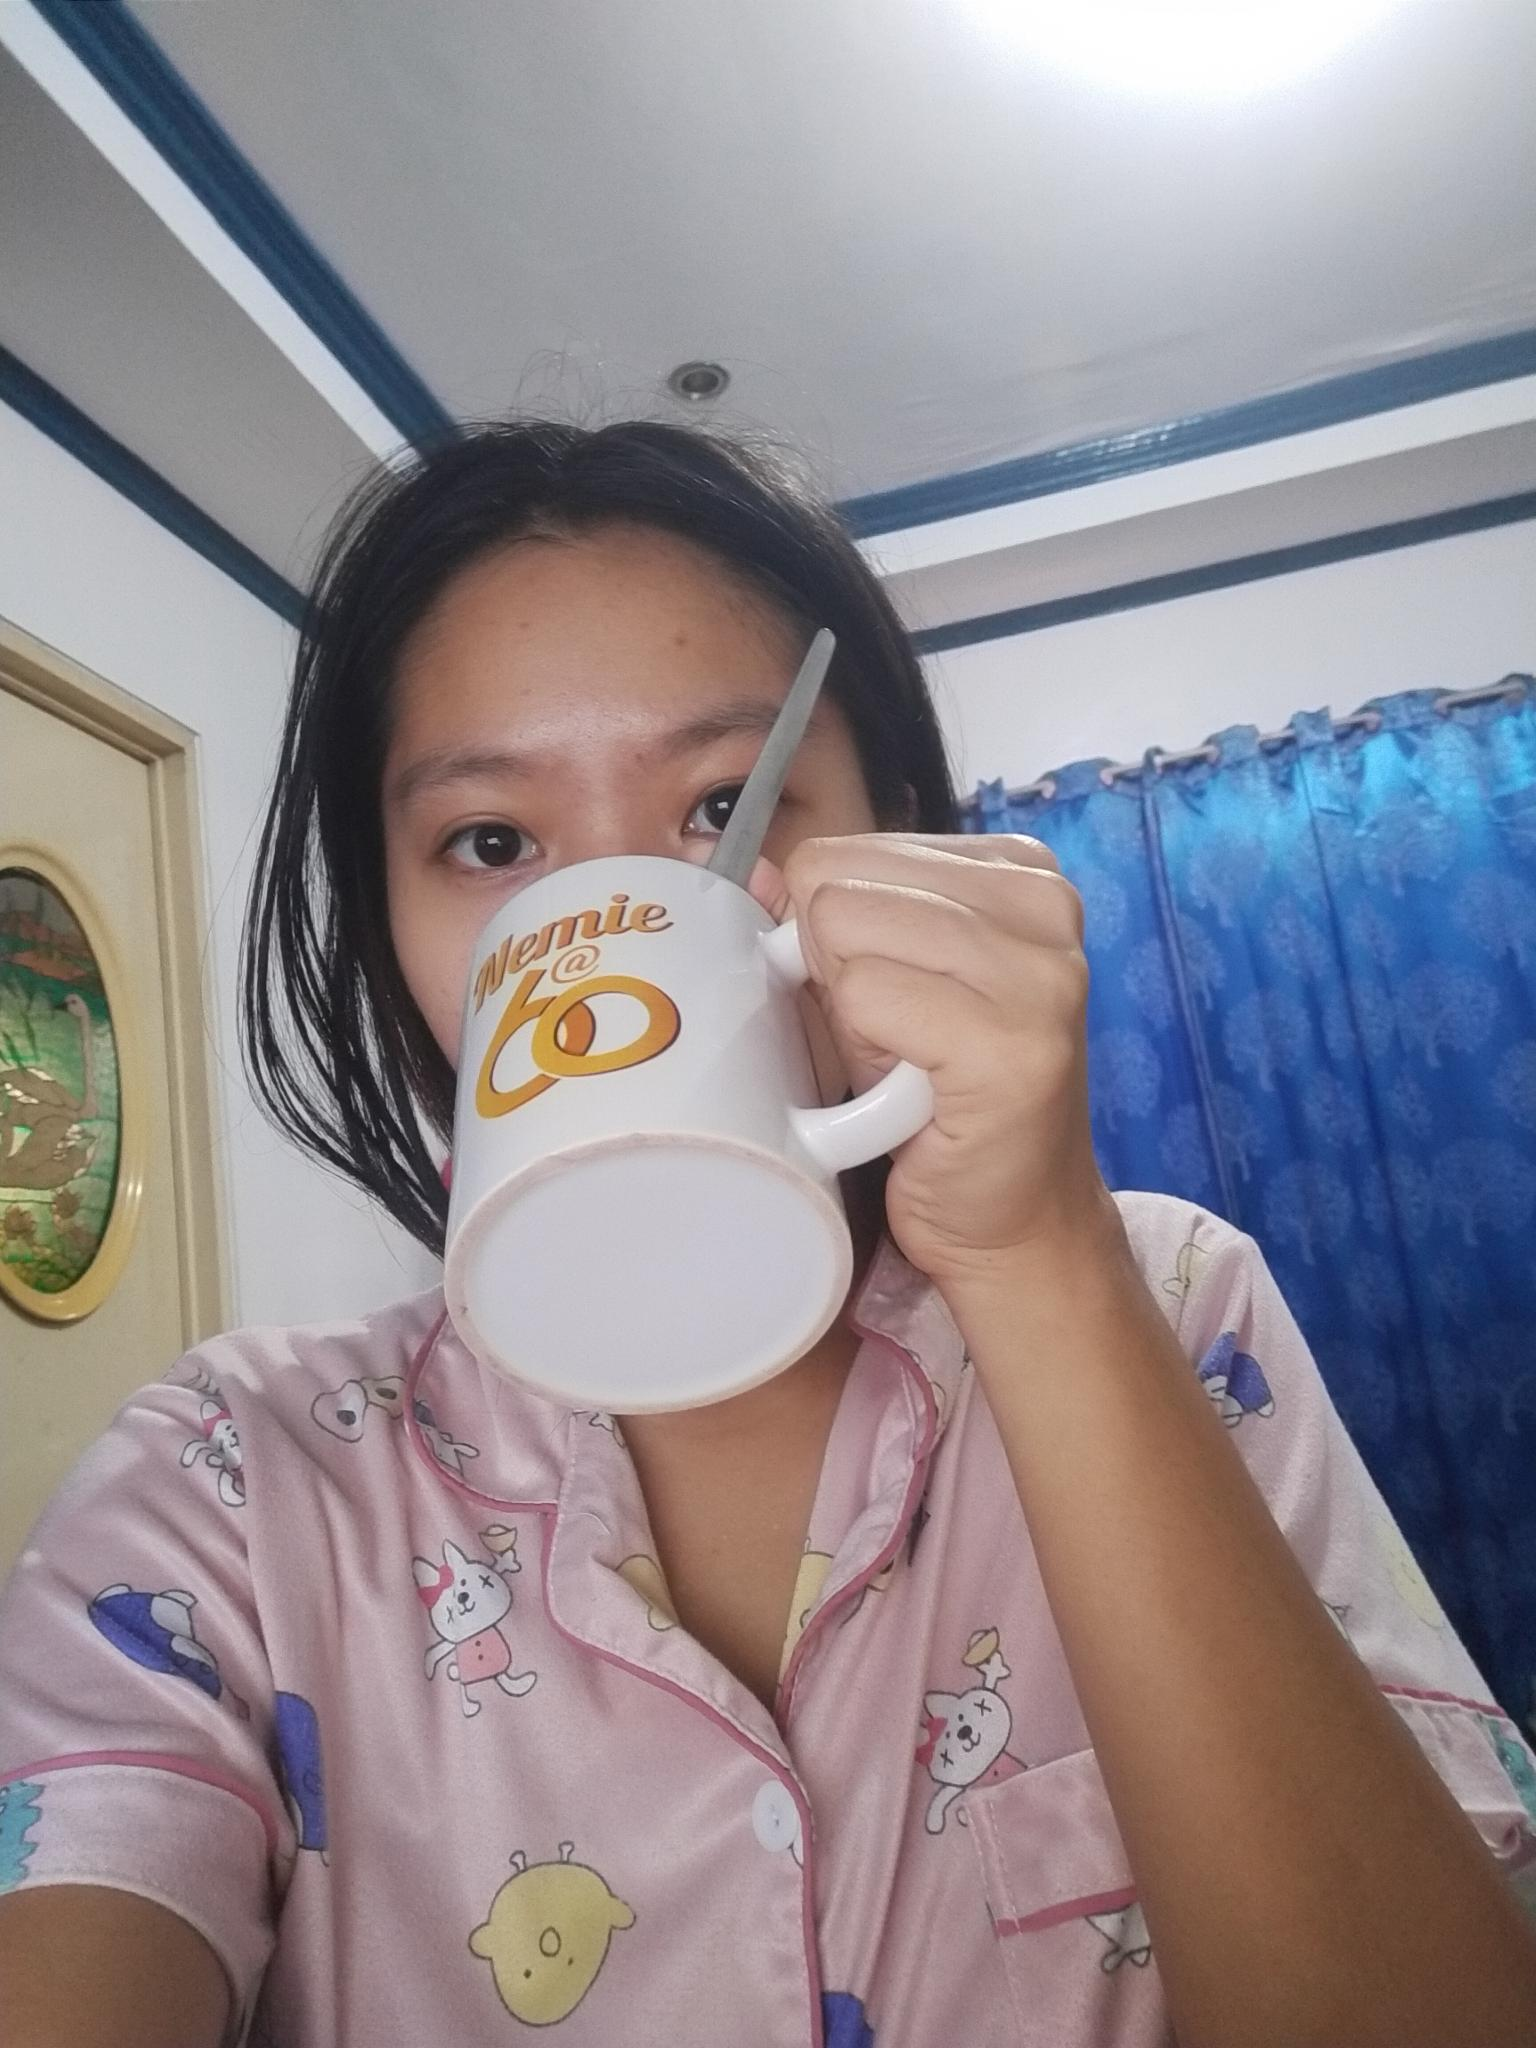Coffee Mug: (449, 851, 933, 1414)
